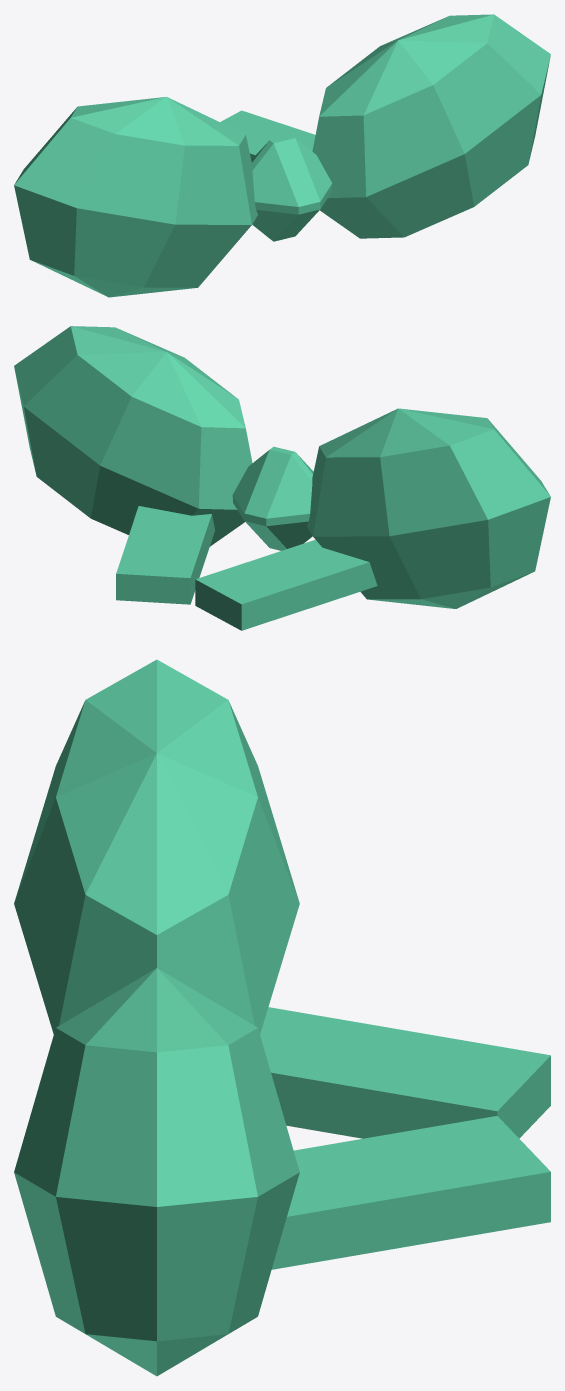
Rendered from CleanACat_Bow_Mint.fbx.
3 views of the same model, one above another, from view 1: azimuth 30°, elevation 25°; view 2: azimuth 150°, elevation 25°; view 3: azimuth 270°, elevation 25° (orthographic). The views are drawn at different scales.
Visible parts, largest first — view 1: CleanACat_Bow_Mint; view 2: CleanACat_Bow_Mint; view 3: CleanACat_Bow_Mint.
Boxes of the visible parts, <box> form: CleanACat_Bow_Mint: <box>14,14,550,297</box>; CleanACat_Bow_Mint: <box>14,326,550,630</box>; CleanACat_Bow_Mint: <box>14,659,550,1376</box>.
Size of the model in its own units: 0.7424 by 0.253 by 0.3381.
1 material, 1 textured.
